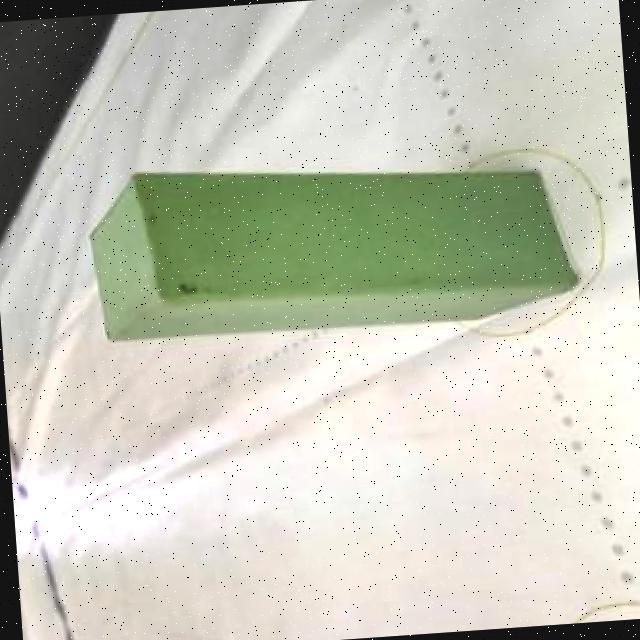greenbox: (80, 140, 582, 344)
